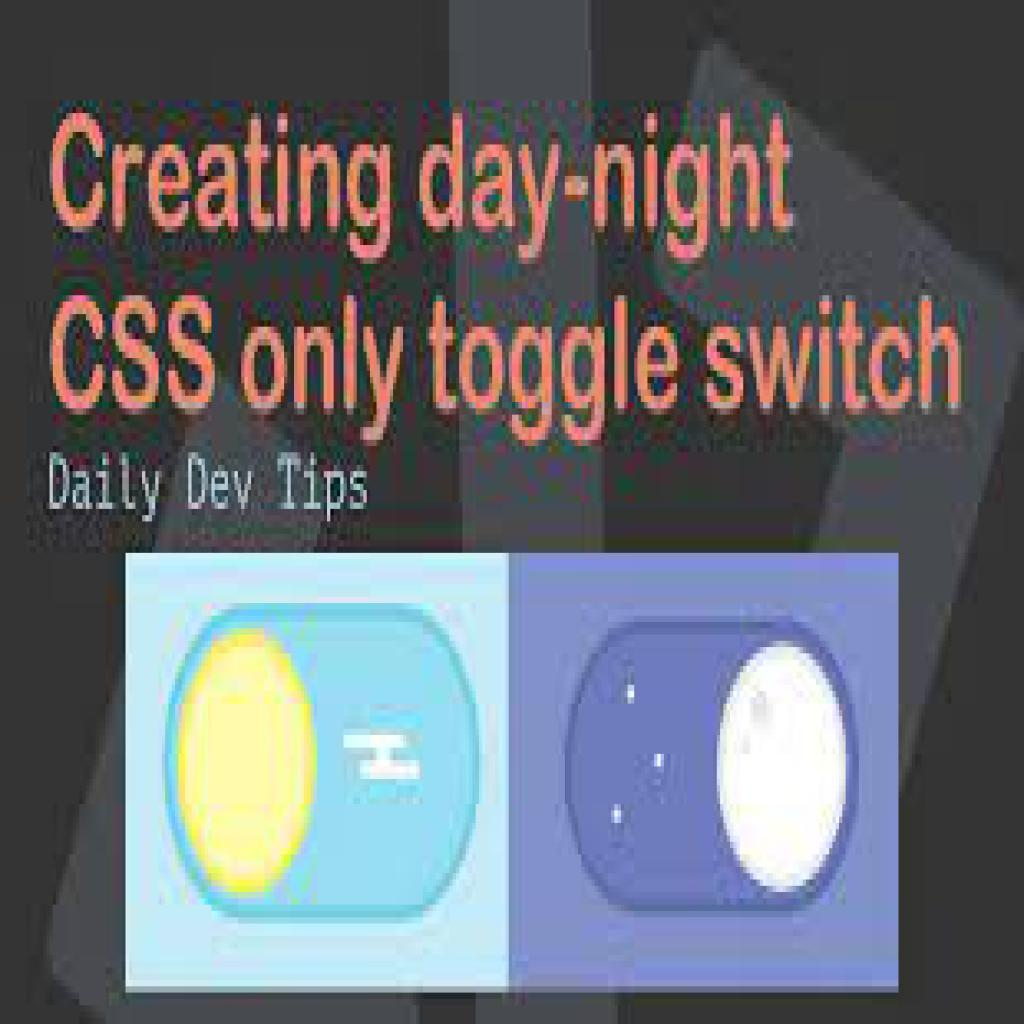switch: (162, 604, 484, 926), (566, 619, 862, 919)
